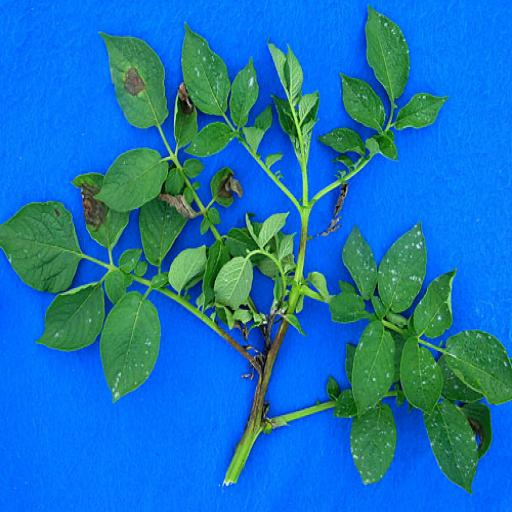disease_tomato: (95, 27, 171, 131), (69, 170, 133, 254)
